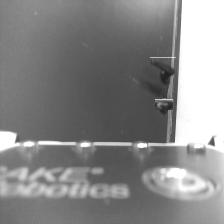Door Handle: (150, 57, 176, 84)
Lock: (157, 98, 172, 112)
